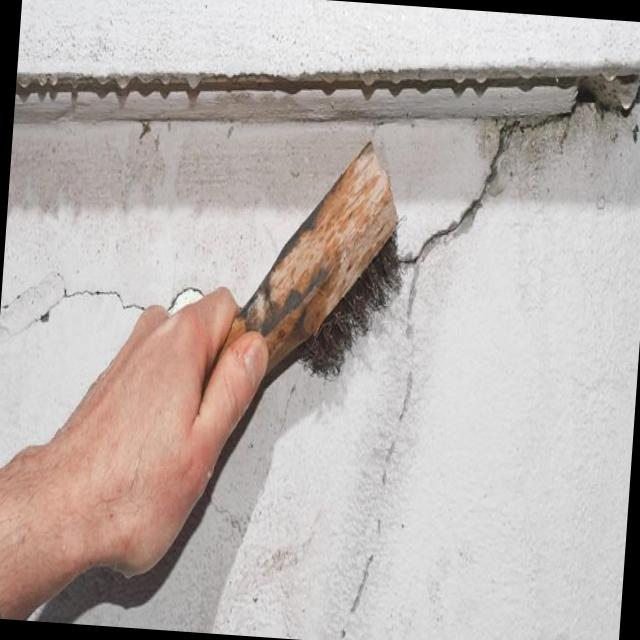crack: (397, 122, 512, 426), (46, 268, 146, 313), (1, 301, 56, 340), (351, 555, 373, 614)
